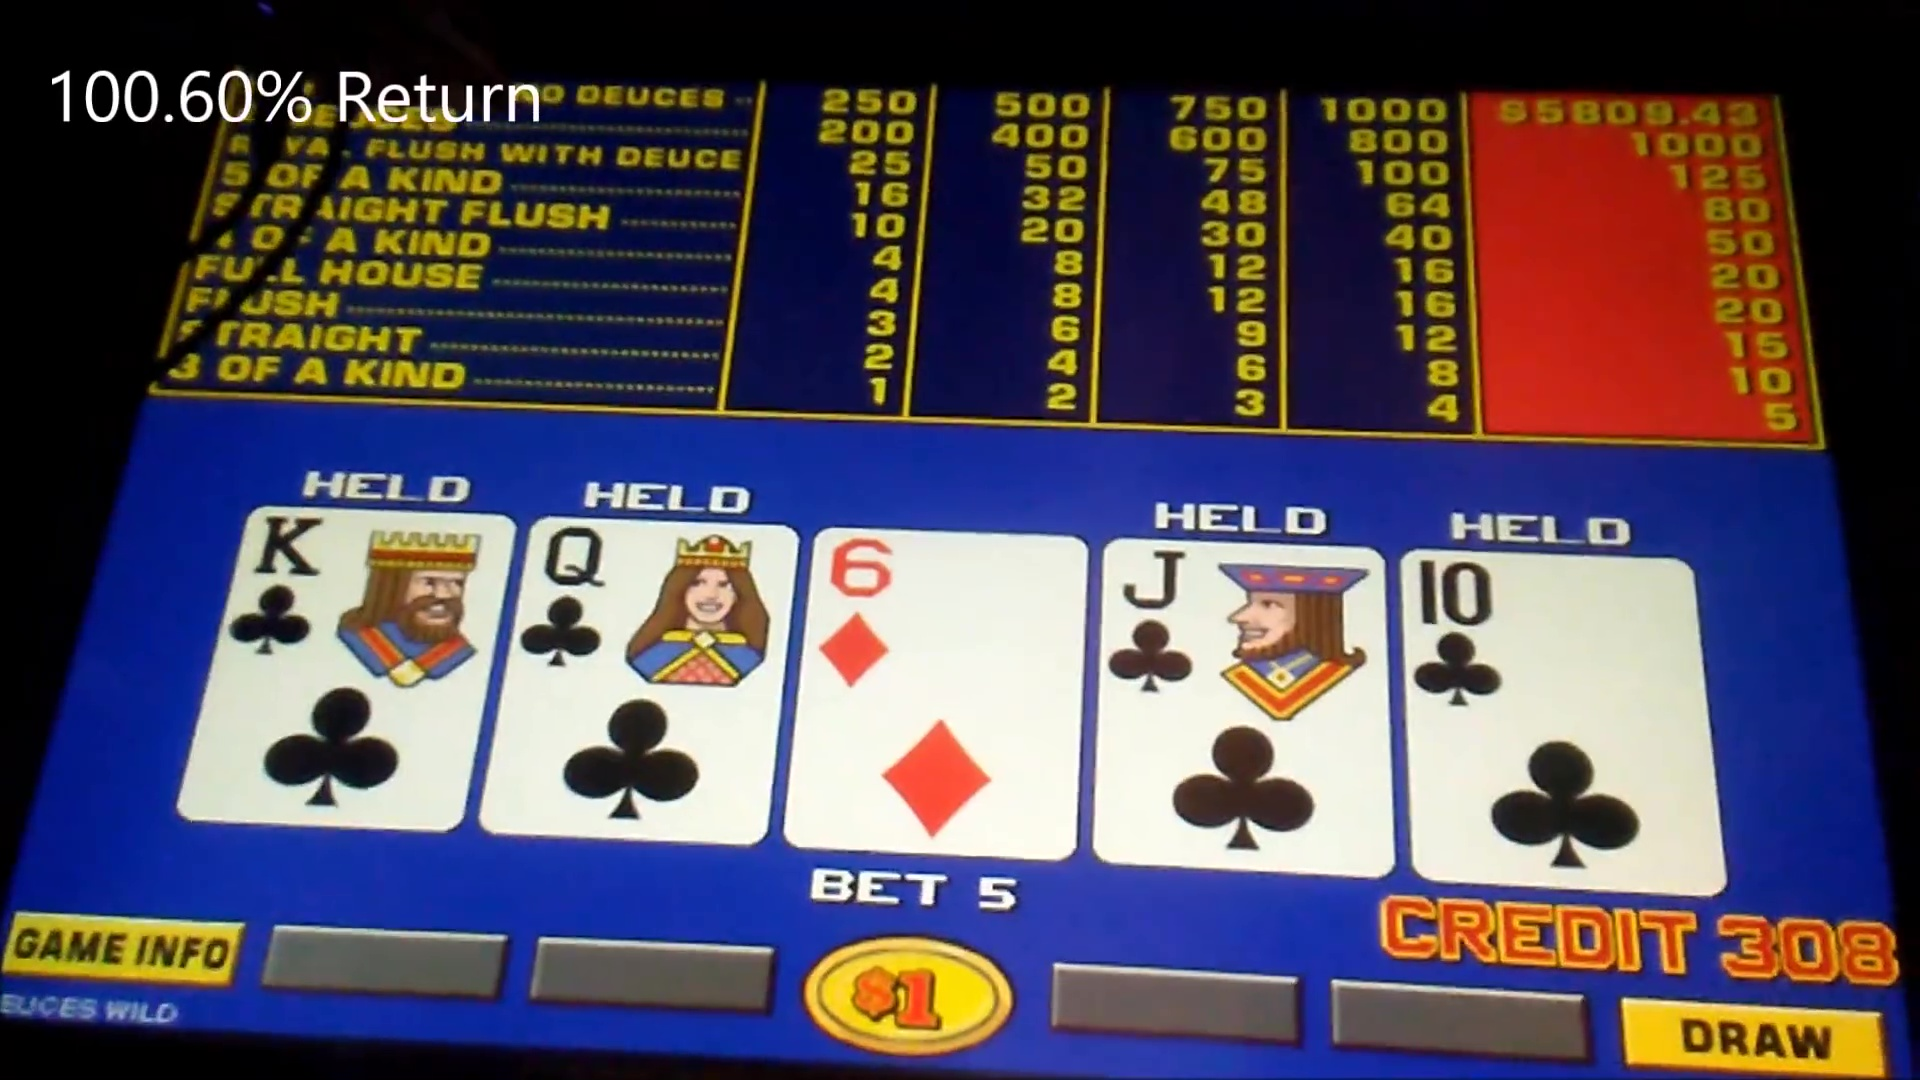CJ: (1093, 545, 1386, 709)
CK: (225, 509, 479, 669)
CQ: (513, 522, 786, 684)
CT: (1412, 550, 1704, 717)
D6: (811, 534, 1083, 691)
